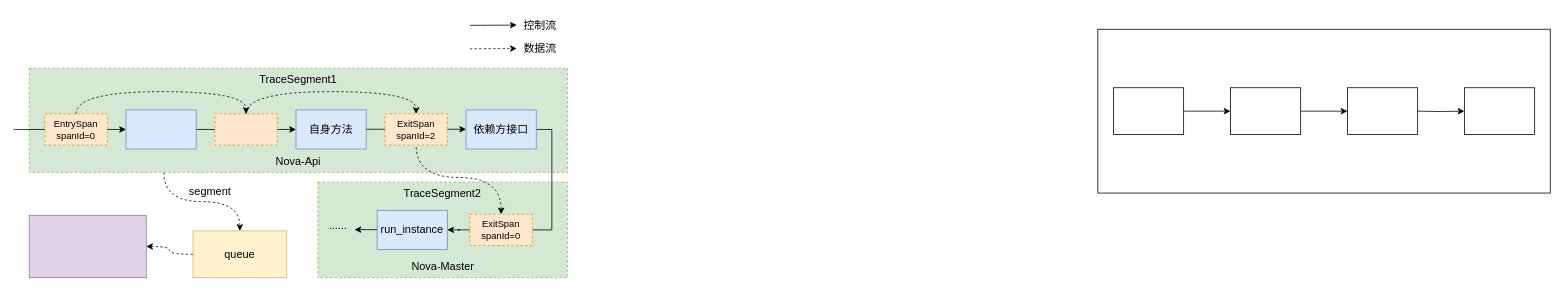
Some shapes in this 1564 by 291 pixel diagram are drawn without their labels. The centre of each missing label's shape, as x and y in pixels:
create: pixel 160 129
LocalSpan spanId=1: pixel 245 129
Skywalking Server: pixel 87 246
